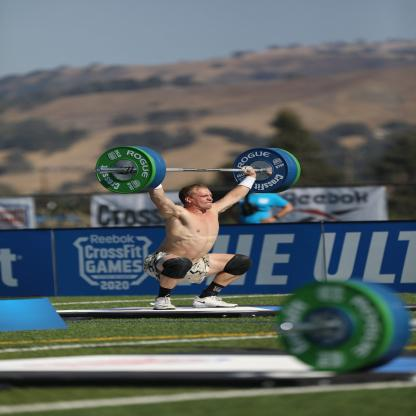barbell: (97, 147, 157, 195)
